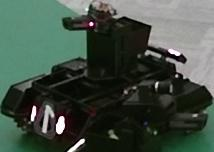armor_1: (31, 106, 66, 135)
front_1: (34, 100, 56, 138)
